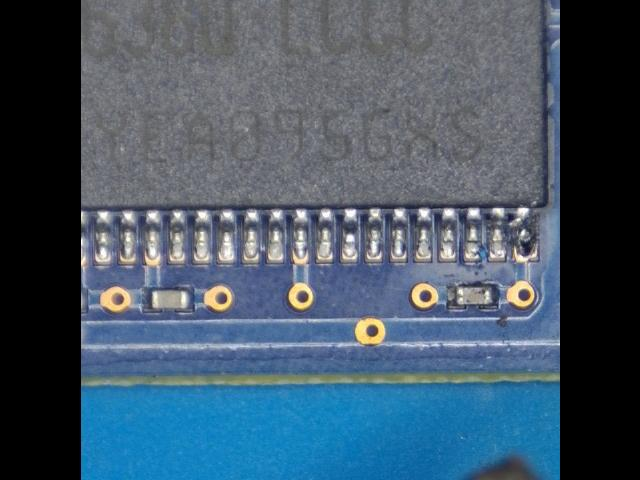Short_circuit: (488, 207, 535, 261)
